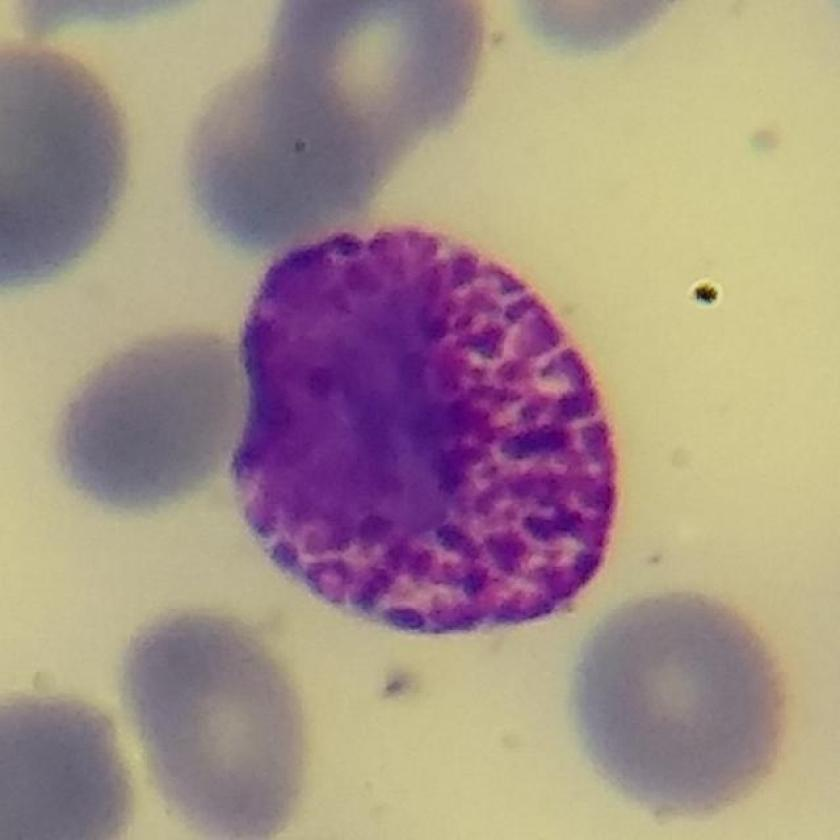basophil: (224, 211, 635, 652)
